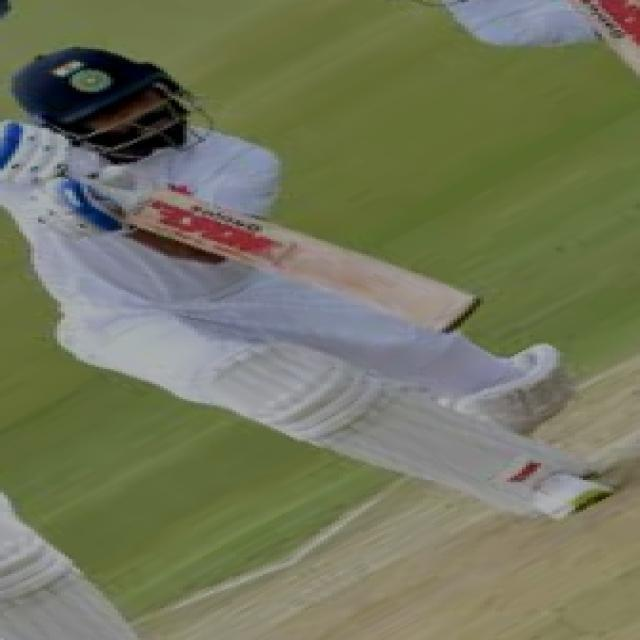bat: (121, 177, 479, 333)
toe: (438, 304, 488, 326)
